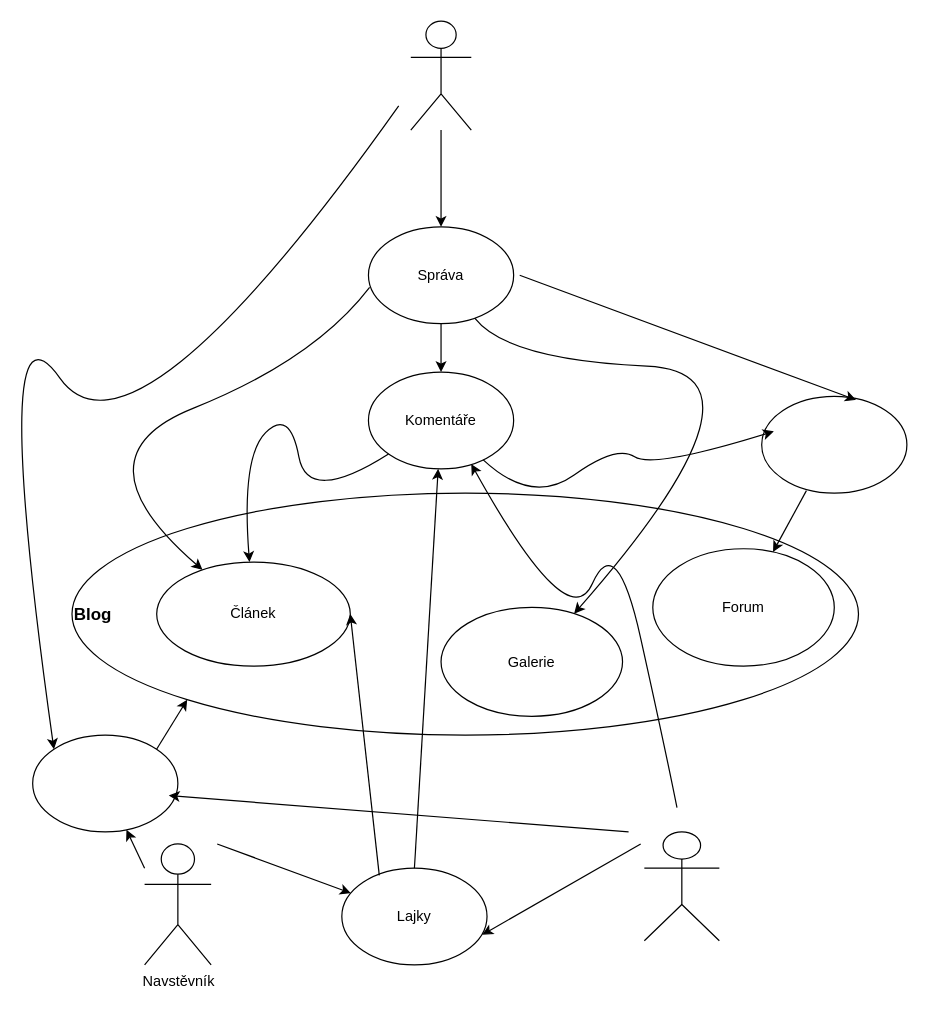
Some shapes in this 928 by 1012 pixel diagram are drawn without their labels. The shapes that lost their labels are listed below. From the top down, each one's box as (x1, y1, x2, y2) in pixels, then its label:
(410, 20, 471, 130): Admin
(760, 395, 907, 493): Vlákno
(31, 734, 178, 832): Prohlíží
(643, 831, 719, 941): Registrovaný
